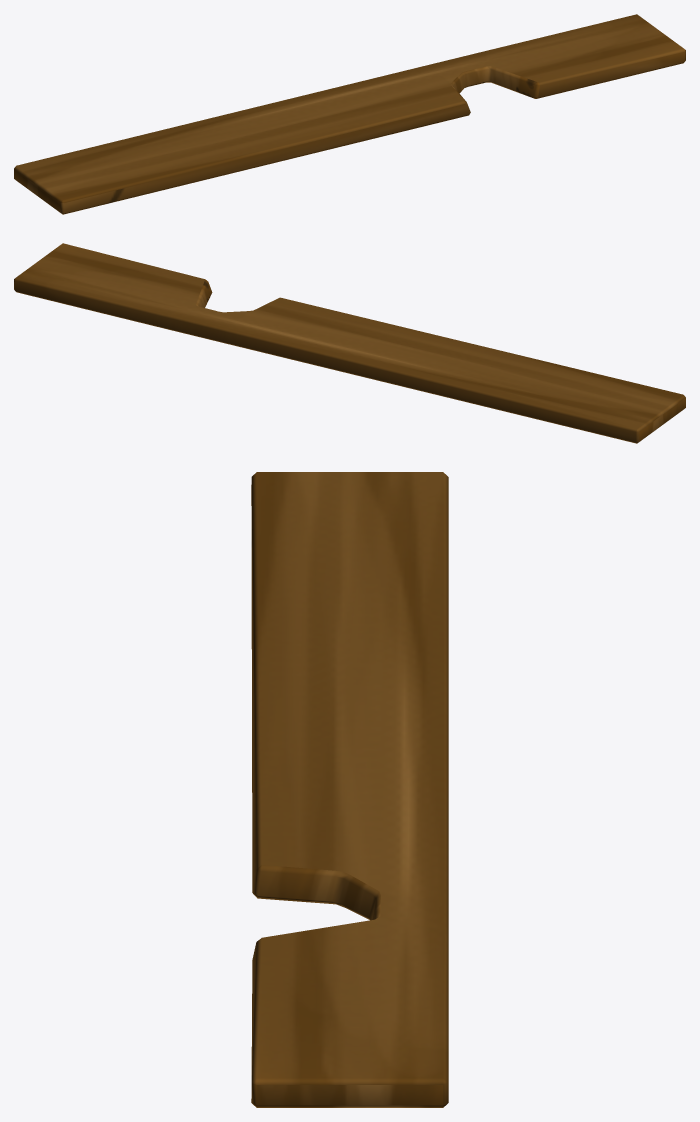
File: Mesh_WoodBuilding_PlankwithHole.fbx
3 views of the same model, one above another, from view 1: azimuth 30°, elevation 25°; view 2: azimuth 150°, elevation 25°; view 3: azimuth 270°, elevation 25° (orthographic). The views are drawn at different scales.
Parts seen in each view (by area): view 1: polySurface122; view 2: polySurface122; view 3: polySurface122.
Part boxes in pixels (x1=…): polySurface122: x1=14, y1=14, x2=685, y2=214; polySurface122: x1=14, y1=243, x2=685, y2=443; polySurface122: x1=251, y1=472, x2=448, y2=1107.
Bounding box in the file's own units: 150 × 3.42 × 20.46.
